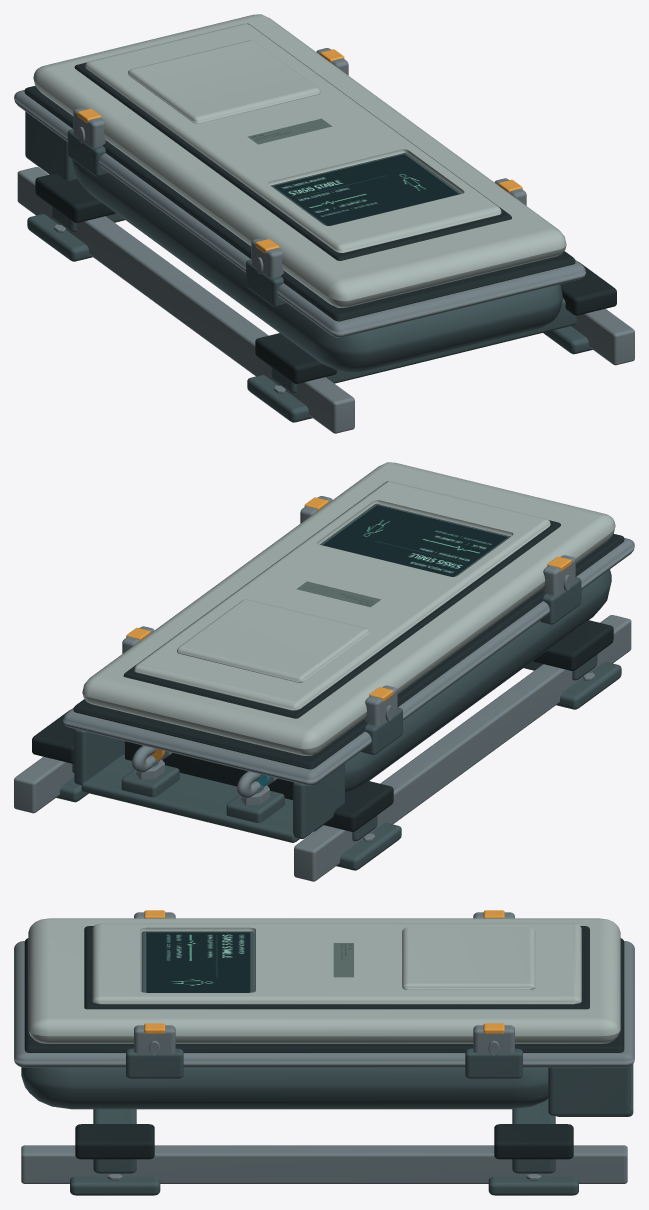
File: sealed-cryo.glb
3 renders of one model, top to bottom at view 1: azimuth 30°, elevation 25°; view 2: azimuth 150°, elevation 25°; view 3: azimuth 270°, elevation 25°, orthographic. The views are drawn at different scales.
Parts seen in each view (by area): view 1: Batch 01 warm ceramic enamel, Batch 02 graphite powdercoat, Batch 03 satin stainless, Batch 04 EPDM gasket, Batch 08 recessed medical LCD atlas, Batch 05 safety ochre, Batch 09 enamel silkscreen atlas; view 2: Batch 01 warm ceramic enamel, Batch 03 satin stainless, Batch 02 graphite powdercoat, Batch 04 EPDM gasket, Batch 08 recessed medical LCD atlas, Batch 05 safety ochre, Batch 09 enamel silkscreen atlas; view 3: Batch 01 warm ceramic enamel, Batch 02 graphite powdercoat, Batch 03 satin stainless, Batch 04 EPDM gasket, Batch 08 recessed medical LCD atlas, Batch 05 safety ochre, Batch 09 enamel silkscreen atlas.
Boxes of the visible parts, bbox=[...] form: Batch 01 warm ceramic enamel: bbox=[33, 14, 566, 307]; Batch 02 graphite powdercoat: bbox=[25, 111, 592, 422]; Batch 03 satin stainless: bbox=[14, 48, 634, 433]; Batch 04 EPDM gasket: bbox=[24, 23, 616, 383]; Batch 08 recessed medical LCD atlas: bbox=[273, 154, 458, 225]; Batch 05 safety ochre: bbox=[77, 49, 522, 253]; Batch 09 enamel silkscreen atlas: bbox=[247, 118, 331, 144]; Batch 01 warm ceramic enamel: bbox=[82, 462, 615, 755]; Batch 03 satin stainless: bbox=[14, 496, 634, 881]; Batch 02 graphite powdercoat: bbox=[56, 503, 621, 870]; Batch 04 EPDM gasket: bbox=[32, 481, 624, 831]; Batch 08 recessed medical LCD atlas: bbox=[322, 505, 507, 576]; Batch 05 safety ochre: bbox=[126, 497, 571, 761]; Batch 09 enamel silkscreen atlas: bbox=[296, 581, 380, 607]; Batch 01 warm ceramic enamel: bbox=[28, 918, 620, 1043]; Batch 02 graphite powdercoat: bbox=[21, 931, 633, 1195]; Batch 03 satin stainless: bbox=[14, 912, 634, 1183]; Batch 04 EPDM gasket: bbox=[24, 926, 624, 1159]; Batch 08 recessed medical LCD atlas: bbox=[145, 932, 250, 992]; Batch 05 safety ochre: bbox=[144, 910, 504, 1033]; Batch 09 enamel silkscreen atlas: bbox=[333, 943, 353, 977].
Bounding box in the file's own units: 1.53 × 0.694 × 2.58.
8 materials, 2 textured.
